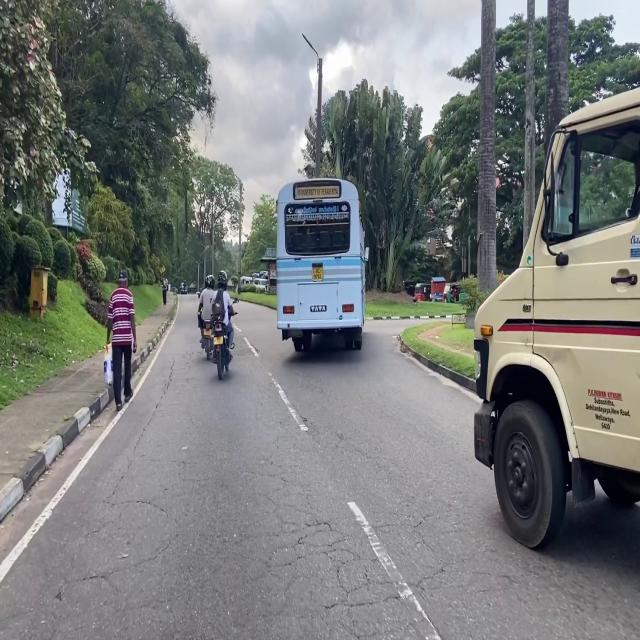bus: (277, 178, 367, 353)
motorcycle: (213, 320, 230, 380), (203, 321, 213, 360)
person: (107, 270, 137, 410), (212, 271, 233, 353), (198, 275, 215, 357), (162, 277, 168, 305)
three wheeler: (443, 283, 466, 303), (413, 283, 430, 302)
truck: (474, 90, 640, 548)
